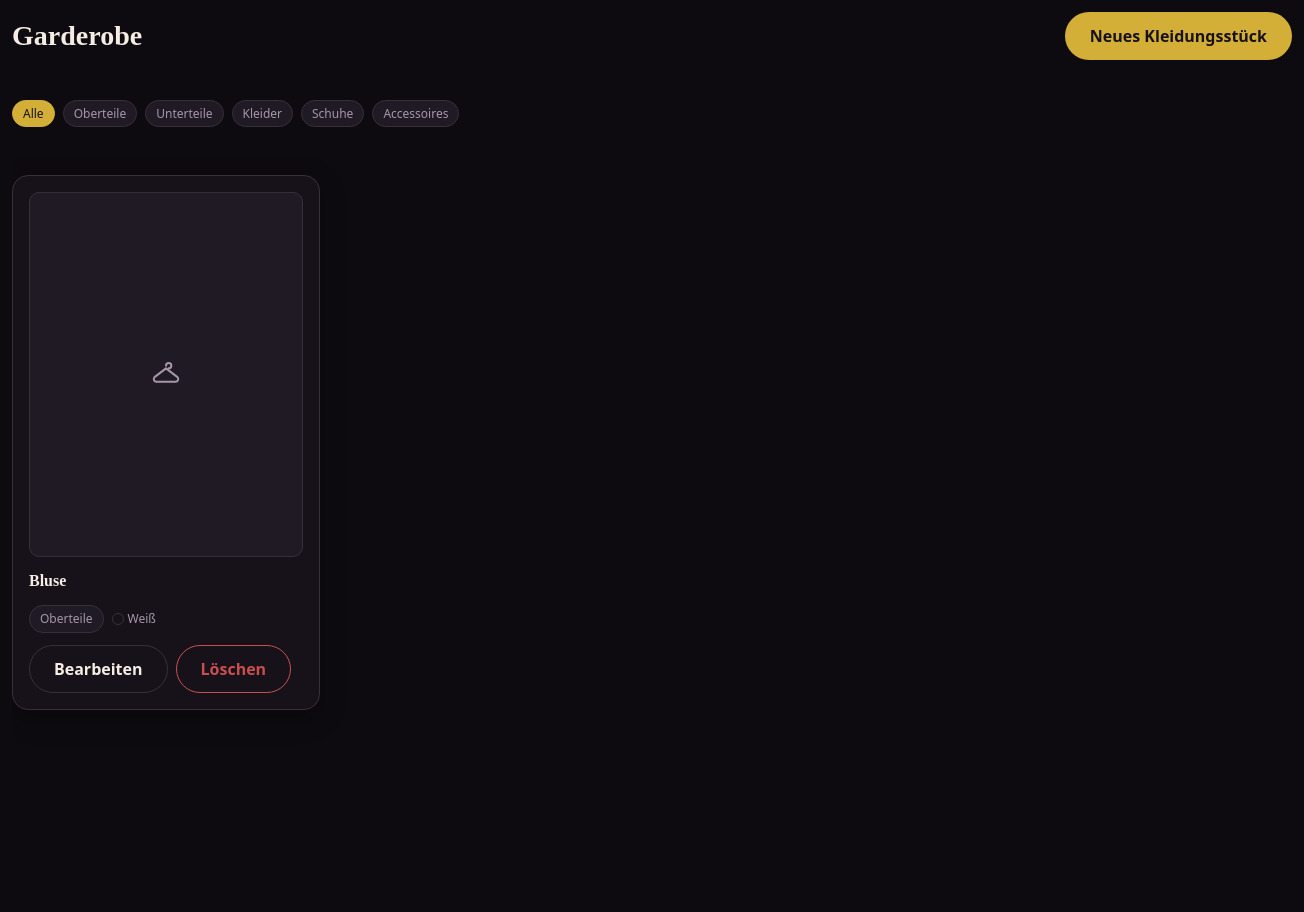
Test: WardrobePage › edits an item via the form and updates the card
Expected: the heading "Bluse" is shown, top-left (29, 572), bottom-right (66, 589)
Step 1. Click the button "Bearbeiten" → (98, 669), box top-left (29, 645), bottom-right (168, 693)
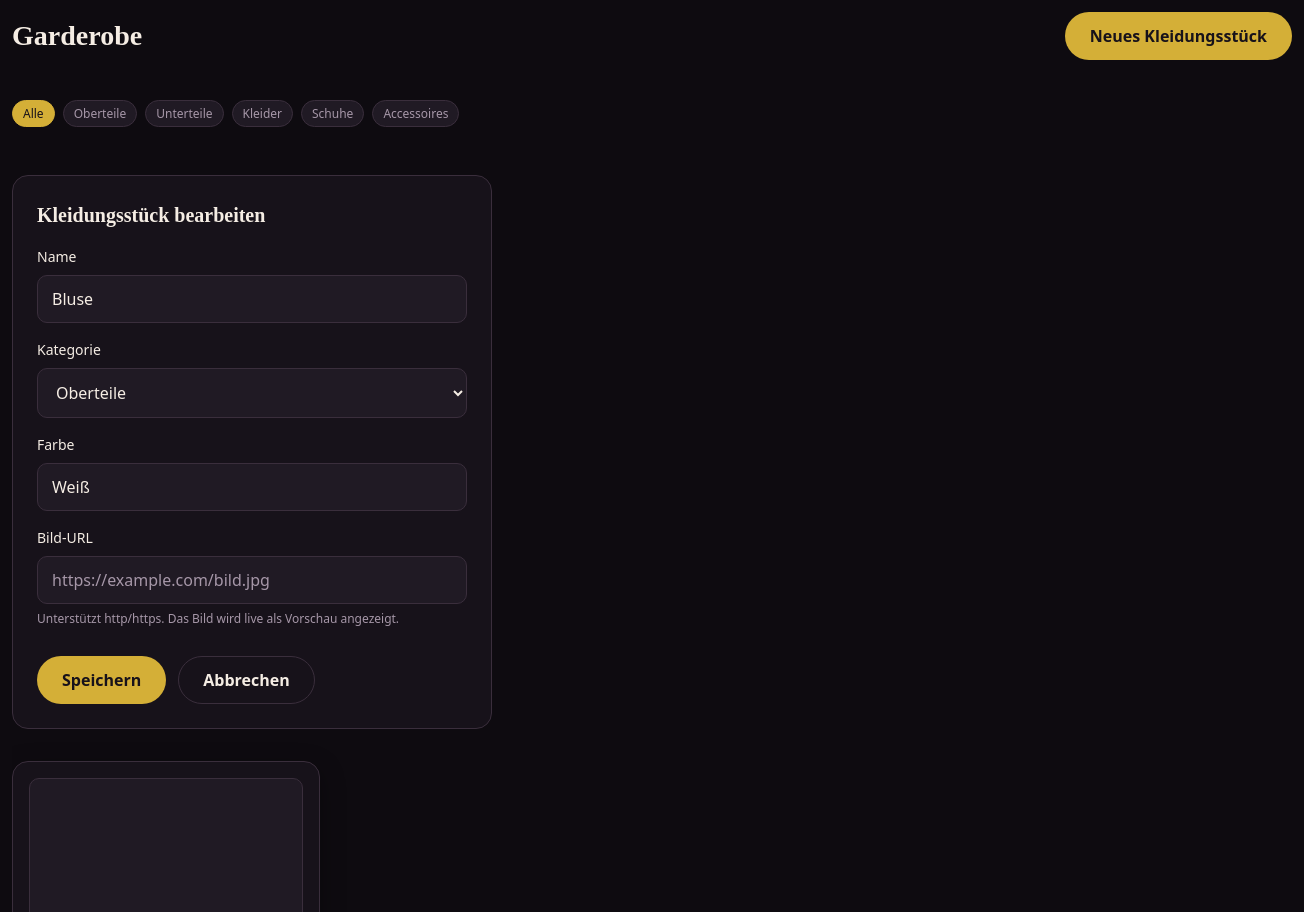
Result: the field labelled "Name" holds "Bluse"
Result: the field labelled "Farbe" holds "Weiß" at top-left (37, 463), bottom-right (467, 511)
Result: the dropdown labelled "Kategorie" shows "Oberteile" at top-left (37, 368), bottom-right (467, 418)
Step 2. Replace the text in the field labelled "Name" with "Bluse (geändert)" → (252, 299), box top-left (37, 275), bottom-right (467, 323)
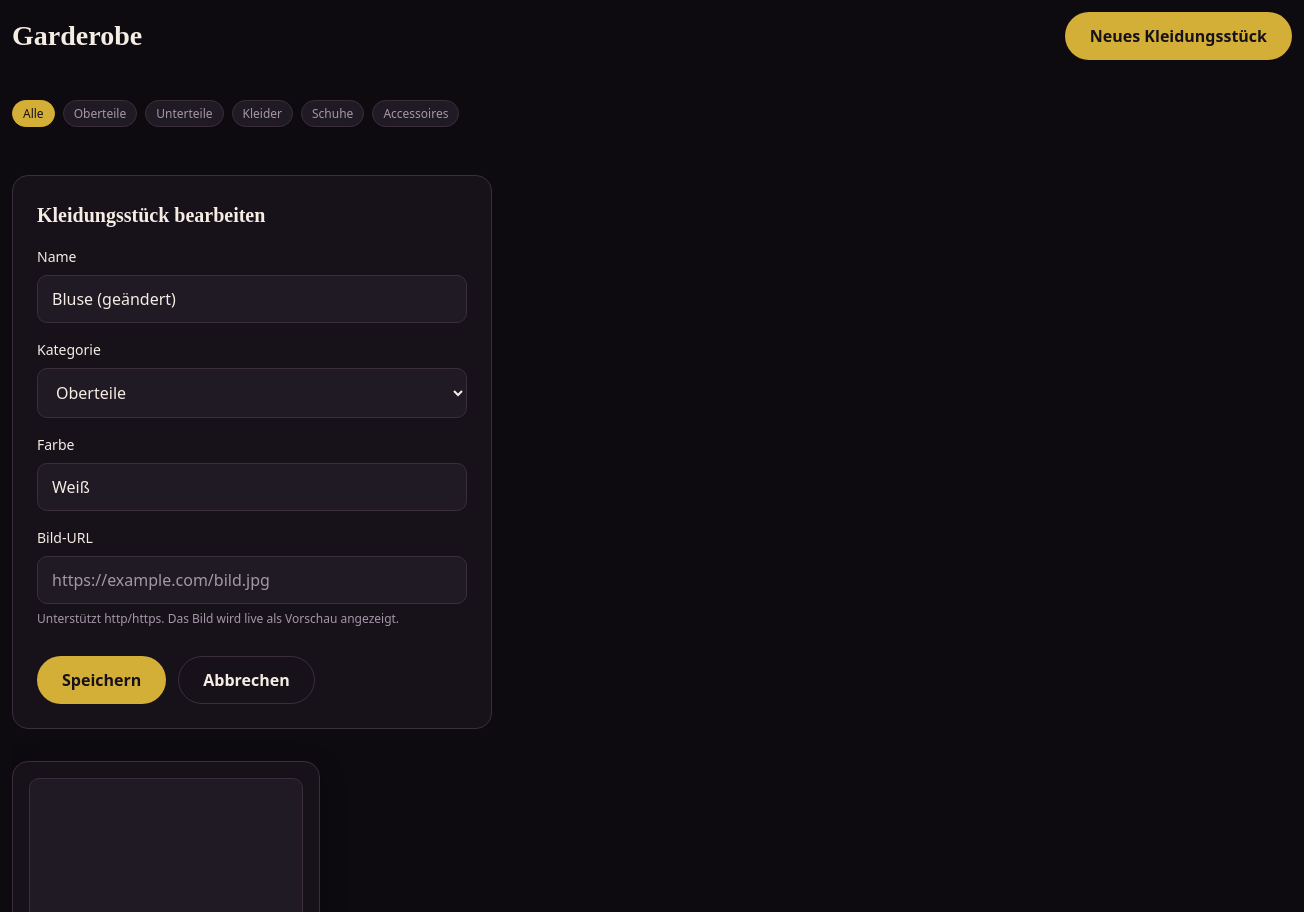
Step 3. Click the button "Speichern" → (102, 680), box top-left (37, 656), bottom-right (166, 704)
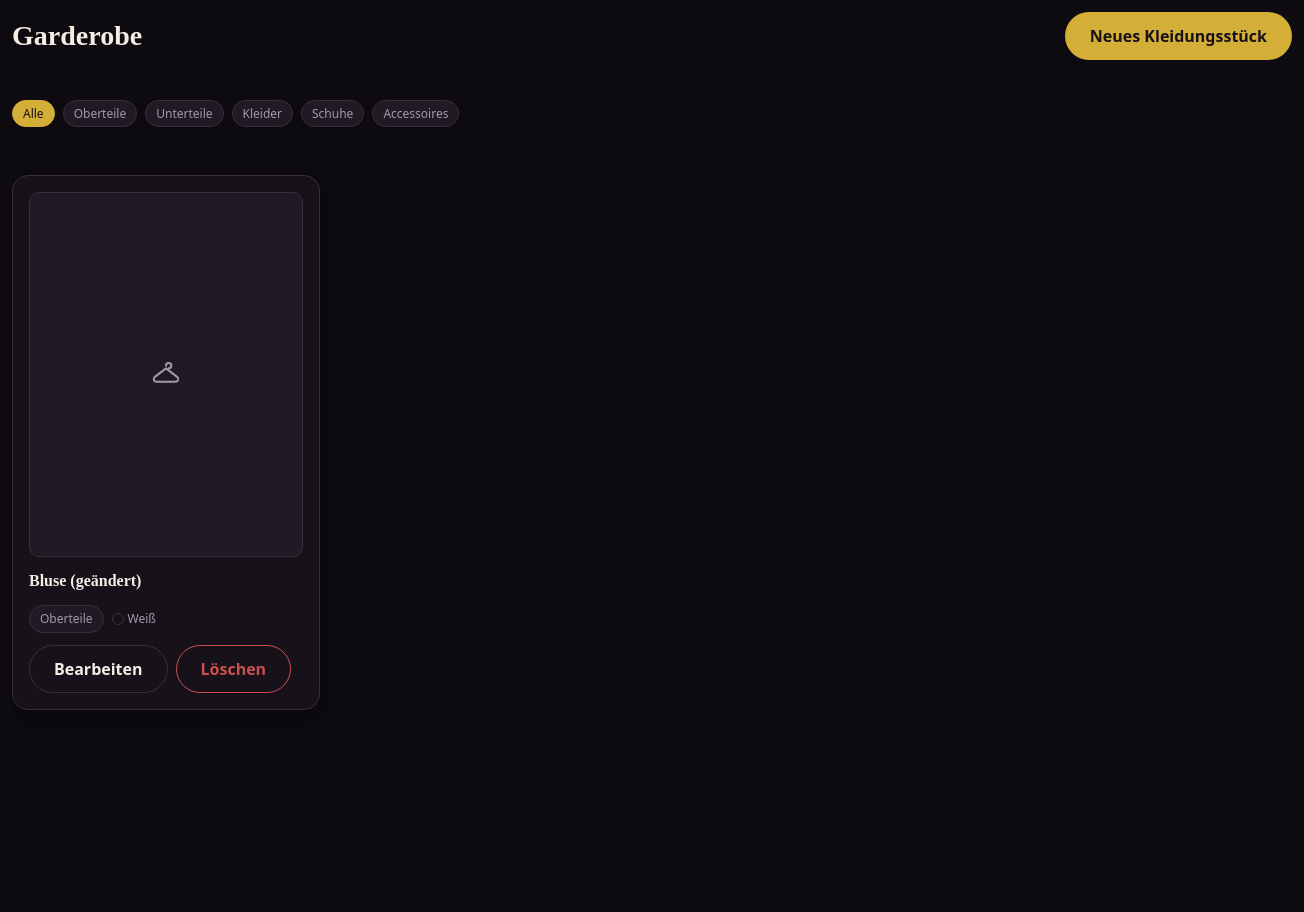
Result: the heading "Bluse (geändert)" is shown at top-left (29, 572), bottom-right (141, 589)
